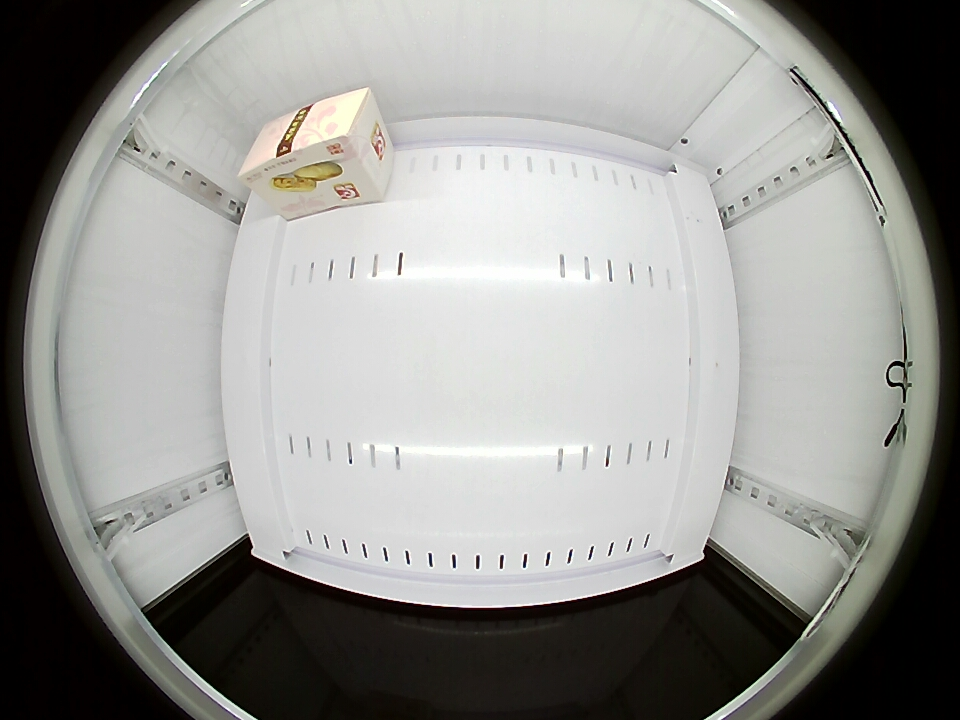rousongbing: (238, 87, 381, 198)
